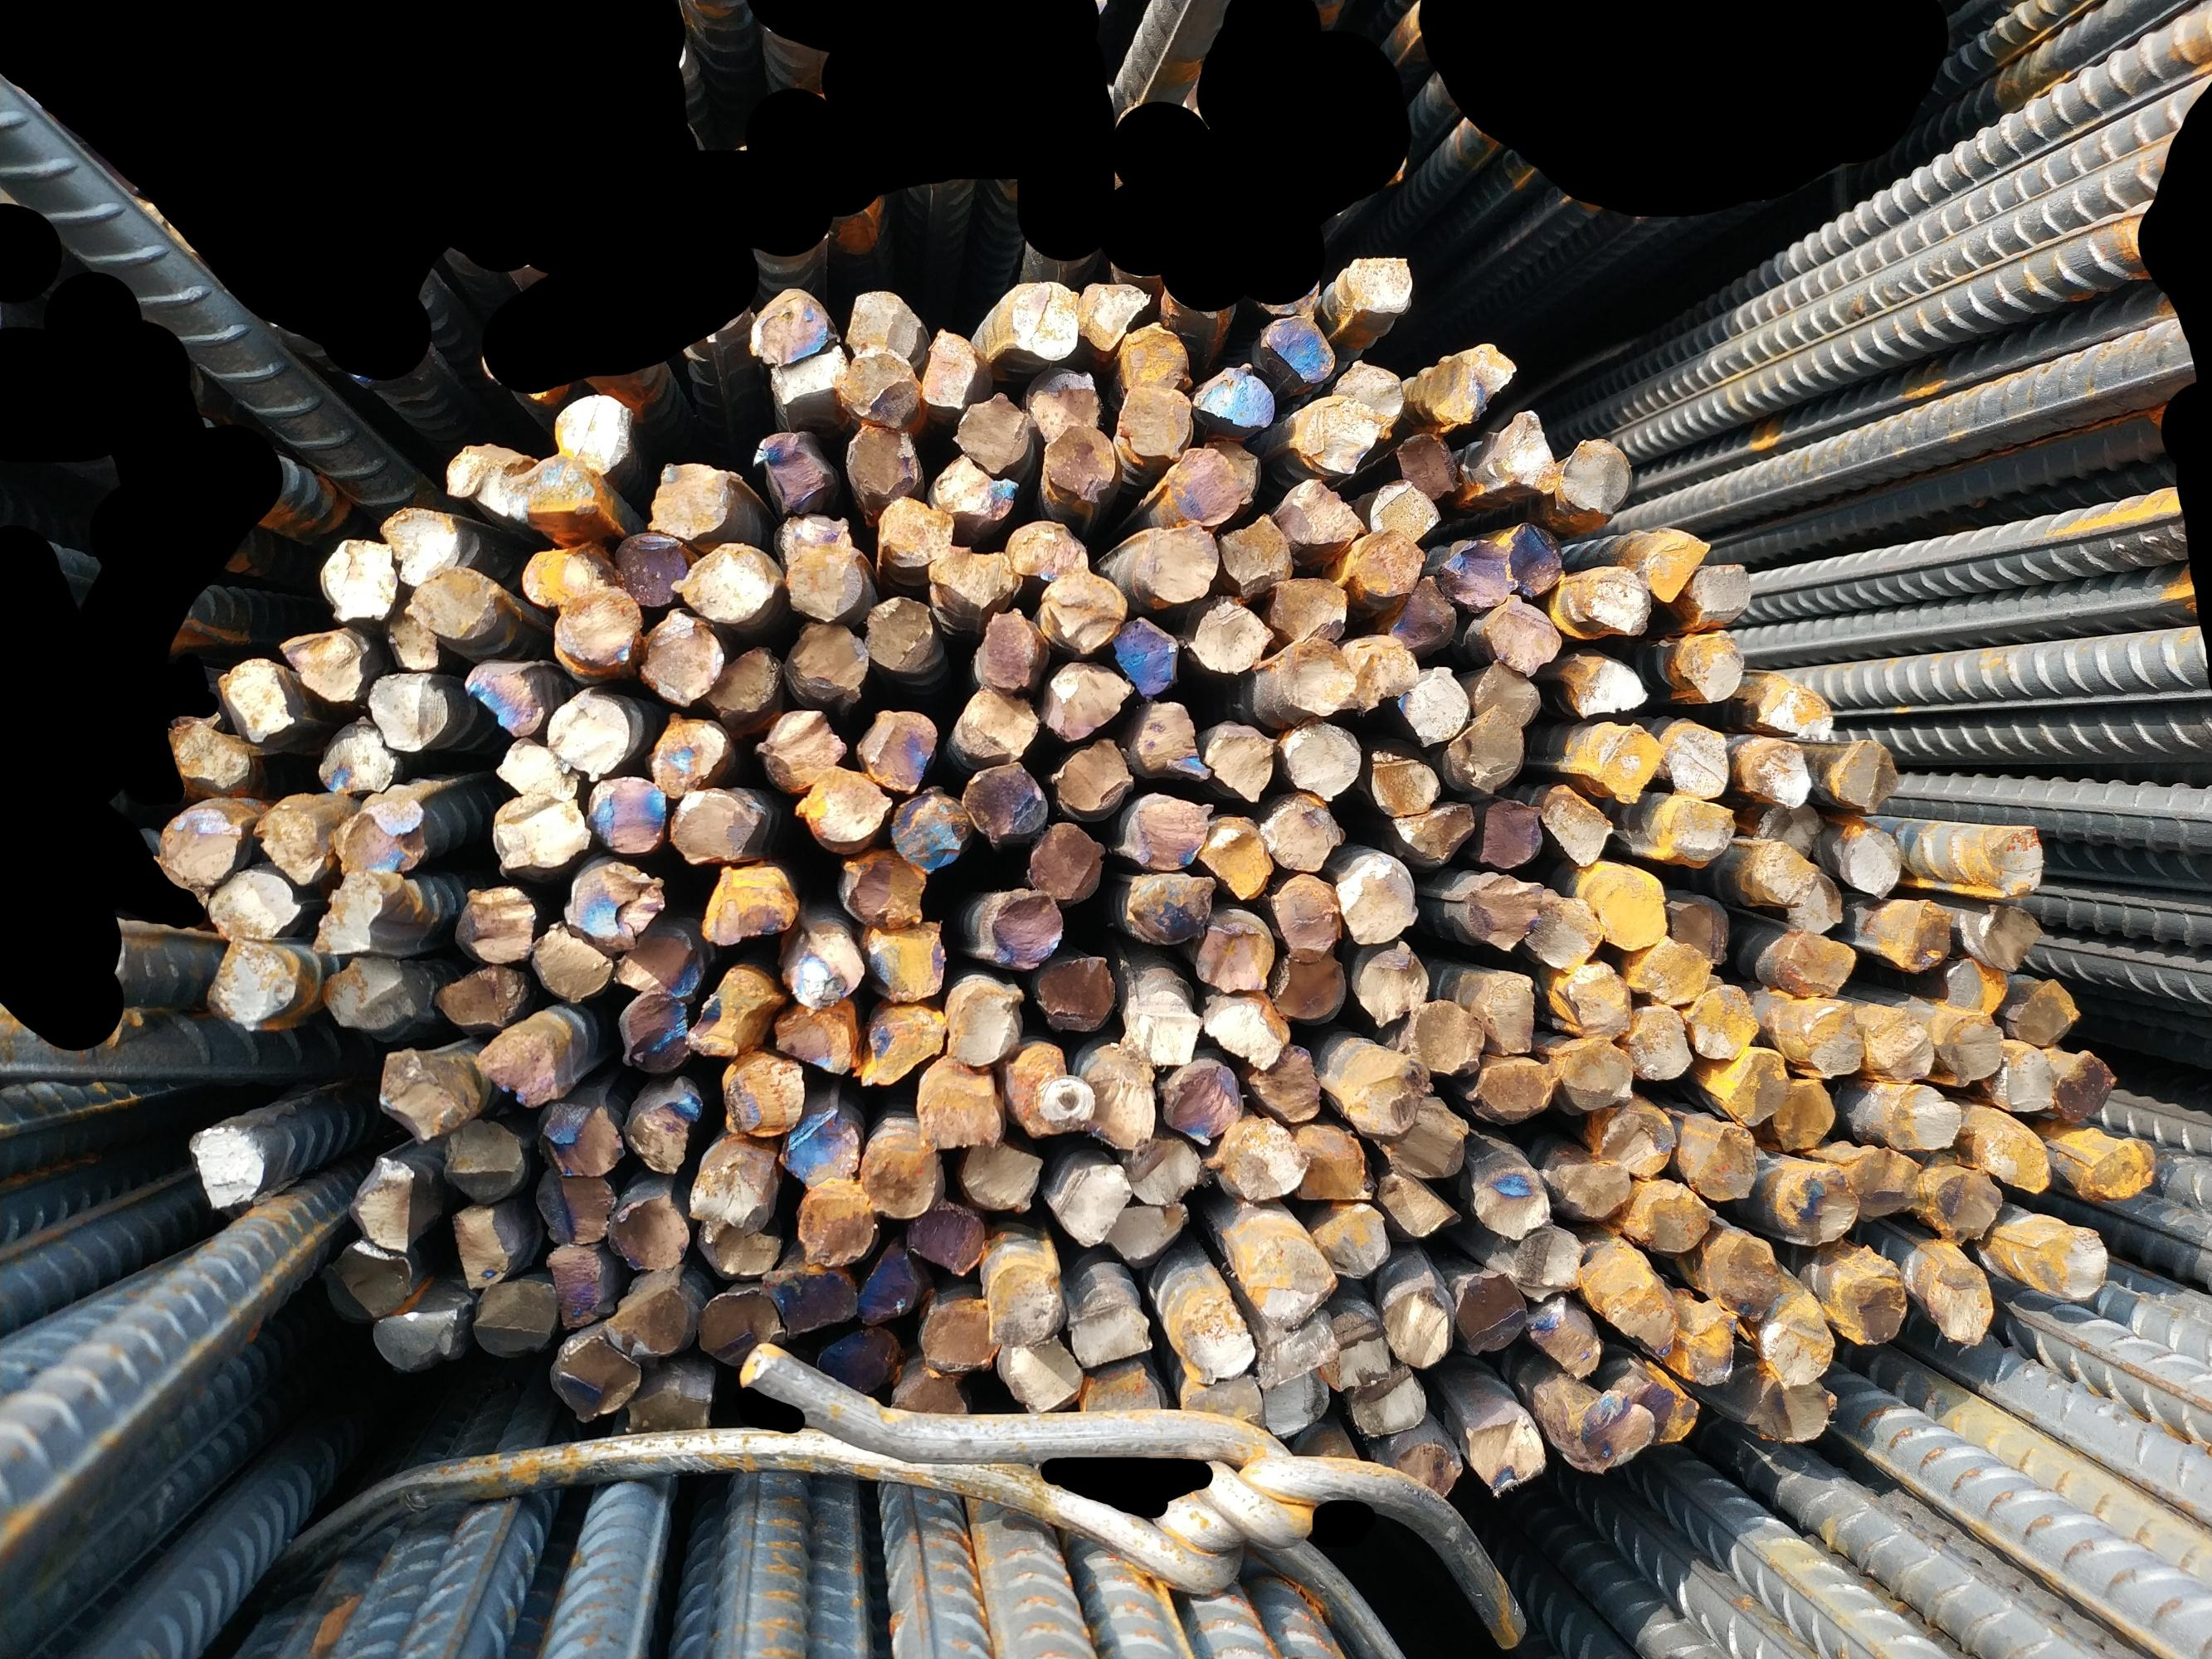bar: (1231, 1223, 1335, 1333), (554, 857, 668, 953), (378, 1046, 485, 1140), (666, 537, 777, 626), (1072, 1039, 1157, 1154), (685, 962, 783, 1060), (204, 934, 300, 1033), (150, 802, 248, 896), (790, 762, 894, 849), (542, 683, 633, 781), (697, 859, 798, 946), (641, 457, 744, 542), (321, 1236, 427, 1317), (547, 1333, 641, 1425), (636, 606, 725, 704), (753, 706, 847, 796), (1335, 1053, 1433, 1140), (851, 1004, 950, 1089), (486, 791, 591, 871), (668, 781, 760, 871), (600, 1283, 694, 1371), (1164, 1290, 1253, 1384), (1213, 1115, 1309, 1202), (1196, 985, 1292, 1072), (640, 708, 729, 800), (1044, 1155, 1133, 1248), (1374, 1091, 1469, 1176), (331, 796, 429, 880), (941, 971, 1023, 1070), (695, 1284, 786, 1373), (852, 1131, 941, 1222), (947, 390, 1039, 477), (469, 1021, 563, 1107), (621, 1087, 704, 1183), (830, 347, 926, 430), (342, 1147, 417, 1253), (1112, 789, 1211, 870), (976, 887, 1067, 974), (547, 390, 640, 476), (859, 917, 952, 1002), (1428, 340, 1520, 425), (549, 586, 643, 669), (1333, 852, 1417, 946), (467, 1276, 558, 1361), (521, 917, 612, 1002), (981, 1258, 1067, 1349), (316, 535, 399, 627), (833, 850, 927, 932), (319, 955, 417, 1033), (774, 988, 861, 1075), (1159, 1053, 1245, 1141), (1288, 1121, 1374, 1209), (1185, 592, 1274, 678), (373, 504, 464, 587), (795, 1176, 879, 1267), (444, 437, 535, 521), (1131, 521, 1222, 605), (1042, 659, 1137, 739), (204, 864, 300, 943), (760, 1262, 856, 1340), (1002, 1042, 1079, 1140), (959, 762, 1046, 847), (1116, 985, 1203, 1070), (178, 1126, 267, 1209), (854, 706, 938, 795), (1459, 1412, 1548, 1495), (1272, 472, 1363, 554), (403, 566, 504, 640), (441, 1119, 528, 1202), (776, 1105, 863, 1188), (718, 1054, 805, 1138), (781, 925, 865, 1012), (248, 795, 329, 884), (1297, 394, 1386, 476), (1039, 573, 1130, 653), (502, 453, 605, 523), (366, 666, 450, 751), (584, 770, 668, 856), (784, 617, 868, 702), (1030, 951, 1117, 1033), (746, 286, 835, 366), (309, 870, 387, 960), (990, 1335, 1084, 1410), (431, 958, 532, 1028), (453, 882, 537, 965), (1478, 592, 1562, 676), (1778, 1164, 1862, 1248), (1020, 821, 1105, 903), (1257, 793, 1342, 875), (1271, 636, 1356, 718), (530, 1166, 617, 1246), (683, 1162, 770, 1243), (612, 521, 692, 608), (214, 657, 293, 746), (889, 782, 967, 871), (899, 1199, 988, 1277), (1447, 706, 1525, 795), (1124, 871, 1215, 948), (1604, 1272, 1680, 1363), (363, 1309, 467, 1375), (605, 1188, 689, 1270), (1279, 718, 1363, 800), (922, 537, 1018, 608), (316, 714, 401, 795), (462, 659, 547, 739), (957, 1134, 1042, 1215), (160, 714, 248, 793), (615, 925, 704, 1002), (1267, 871, 1344, 960), (1114, 1134, 1204, 1209), (690, 1211, 783, 1284), (1745, 1373, 1837, 1446), (784, 540, 866, 622), (1572, 1392, 1654, 1474), (540, 1100, 624, 1180), (1351, 941, 1431, 1025), (1192, 915, 1278, 993), (1192, 354, 1278, 432), (1588, 720, 1666, 805), (1551, 1033, 1637, 1112), (1133, 697, 1210, 784), (1198, 814, 1274, 901), (1217, 509, 1293, 596), (1536, 781, 1612, 868), (1457, 873, 1544, 950), (2074, 1133, 2161, 1209), (493, 734, 582, 809), (913, 1080, 1002, 1155), (1588, 1105, 1677, 1180), (1252, 1321, 1349, 1389), (1379, 1281, 1452, 1371), (1452, 1267, 1525, 1358), (844, 420, 926, 500), (873, 490, 955, 570), (1401, 997, 1485, 1075), (1002, 277, 1081, 361), (1523, 896, 1607, 974), (1041, 422, 1117, 507), (1924, 1260, 2001, 1345), (950, 687, 1037, 762), (912, 1297, 999, 1371), (1560, 432, 1635, 519), (1110, 608, 1178, 704), (621, 986, 692, 1077), (927, 450, 1018, 521), (1053, 735, 1135, 814), (1504, 1225, 1586, 1304), (1466, 1161, 1550, 1237), (277, 629, 363, 704), (699, 641, 784, 716), (1344, 1364, 1431, 1438), (1626, 934, 1713, 1007), (1834, 1262, 1907, 1349), (1114, 317, 1194, 396), (1116, 382, 1192, 464), (1841, 1147, 1923, 1223), (1265, 572, 1349, 647), (1550, 967, 1633, 1042), (1318, 1312, 1391, 1398), (1396, 662, 1469, 748), (1462, 1058, 1558, 1122), (753, 429, 830, 509), (1168, 446, 1245, 526), (1590, 870, 1666, 950), (1761, 1312, 1841, 1389), (859, 591, 934, 673), (842, 289, 926, 362), (1686, 1122, 1759, 1206), (1774, 927, 1858, 1000), (448, 1199, 518, 1286), (1717, 1236, 1785, 1324), (1311, 1202, 1389, 1279), (1246, 1042, 1321, 1122), (1265, 946, 1346, 1021), (1658, 718, 1729, 802), (540, 1239, 605, 1331), (1539, 1157, 1632, 1222), (1375, 1439, 1462, 1507), (516, 542, 605, 608), (852, 1239, 919, 1328), (1063, 1300, 1152, 1366), (1471, 969, 1537, 1058), (1525, 1300, 1602, 1377), (1574, 565, 1652, 640), (1684, 985, 1759, 1063), (2036, 1223, 2111, 1302), (1346, 631, 1419, 711), (1204, 721, 1276, 803), (1025, 368, 1107, 439), (1865, 1004, 1937, 1086), (1391, 798, 1478, 864), (1440, 535, 1517, 610), (1096, 1201, 1191, 1262), (1656, 795, 1736, 866), (1883, 1080, 1963, 1152), (915, 324, 978, 415), (1075, 277, 1150, 352), (1386, 575, 1461, 650), (1375, 1166, 1452, 1239), (1626, 1373, 1703, 1446), (1931, 1166, 2005, 1243), (1623, 1004, 1693, 1084), (1720, 1047, 1790, 1127), (1935, 1007, 2005, 1087), (973, 606, 1039, 690), (1075, 1364, 1171, 1422), (1492, 408, 1557, 493), (1741, 734, 1813, 810), (1884, 894, 1954, 972), (1830, 735, 1900, 814), (765, 342, 847, 408), (624, 1384, 718, 1441), (1002, 519, 1088, 582), (1982, 1126, 2057, 1197), (1675, 629, 1747, 704), (1367, 746, 1443, 816), (1640, 1192, 1719, 1260), (1980, 823, 2046, 903), (1640, 528, 1710, 603), (1574, 650, 1649, 720), (1497, 519, 1565, 596), (1180, 1373, 1265, 1434), (1799, 1000, 1865, 1079), (1469, 655, 1539, 728), (2010, 974, 2080, 1047), (1264, 1364, 1332, 1439), (1349, 526, 1424, 594), (1768, 1075, 1834, 1152), (1755, 680, 1835, 742), (1475, 796, 1544, 868), (1368, 477, 1442, 545), (1837, 826, 1903, 901), (1198, 434, 1265, 505), (1752, 838, 1820, 910), (1938, 953, 2012, 1019), (1262, 315, 1337, 380), (1330, 359, 1405, 423), (1394, 429, 1459, 504), (1682, 559, 1752, 627), (1339, 253, 1414, 315), (1996, 1039, 2059, 1114), (2055, 1049, 2118, 1124), (1682, 1312, 1741, 1391), (1977, 901, 2043, 971), (1754, 796, 1825, 861), (885, 1366, 967, 1420), (1668, 897, 1731, 967), (380, 599, 439, 671), (814, 1340, 894, 1389), (774, 509, 852, 558), (1783, 871, 1844, 934), (1297, 1420, 1365, 1471)
